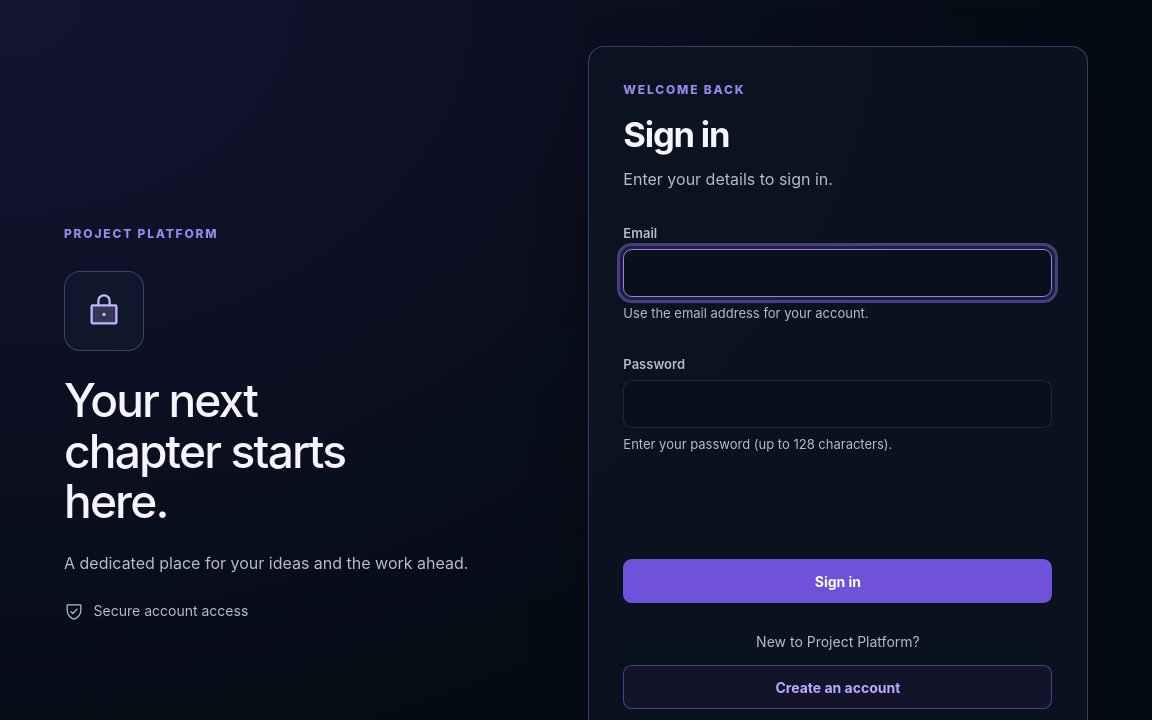
Test: Authentication interface › shows a safe invalid-credentials message and allows a retry
This screenshot has width=1152, height=720.
Type "taylor@example.com" into the field labelled "Email" at x=838, y=273, box 623,249 -> 1052,297
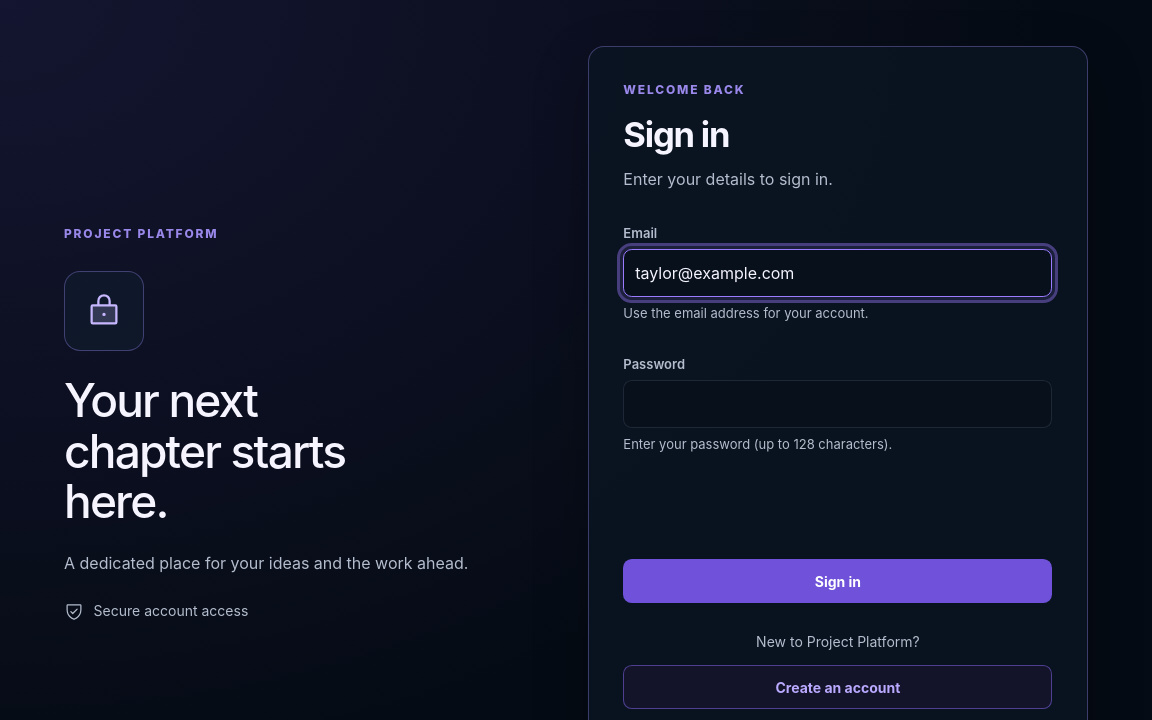
Type "a-valid-password-42" into the password field labelled "Password" at x=838, y=404, box 623,380 -> 1052,428
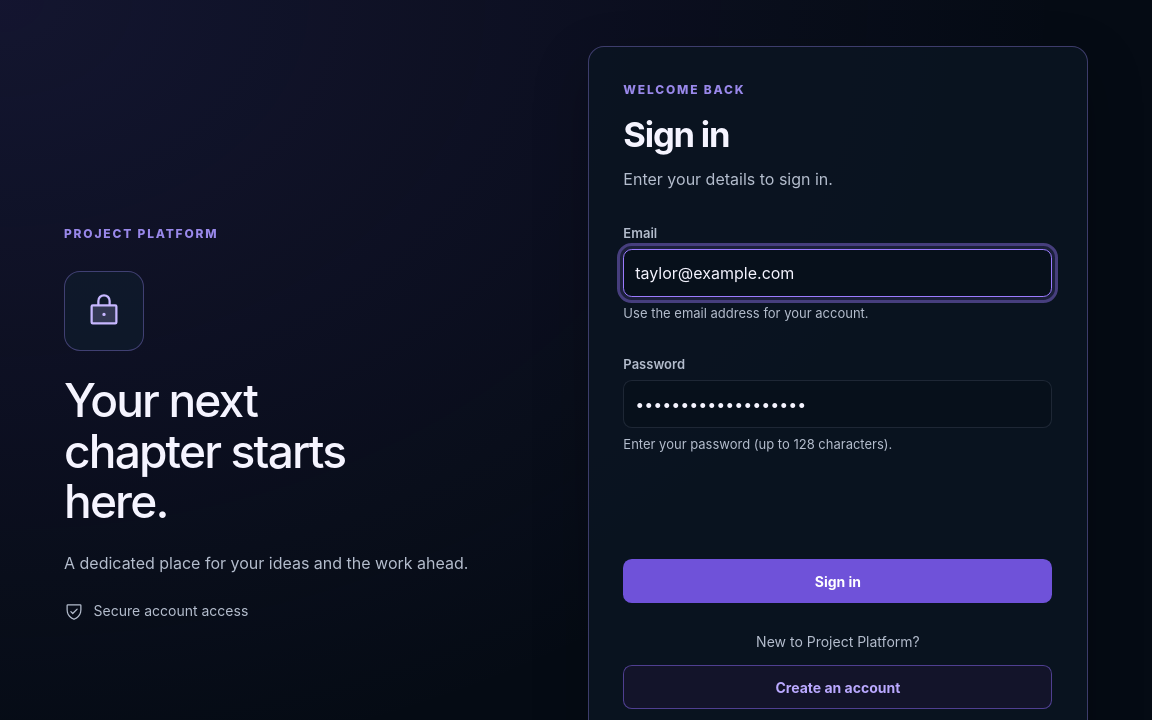
Submit the form named "Login", box 623,225 -> 1052,603
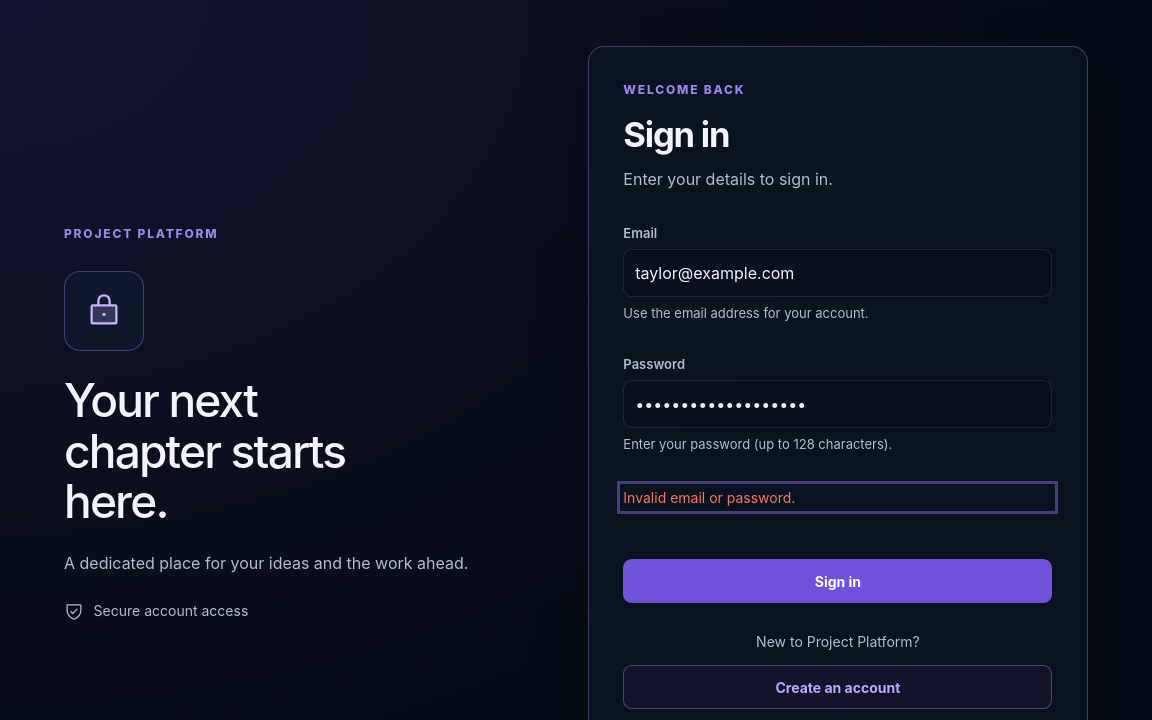
Expected: the button "Sign in" is enabled, 623,559 -> 1052,603
Expected: the message reads "Invalid email or password.", 623,489 -> 795,506
Submit the form named "Login", box 623,225 -> 1052,603
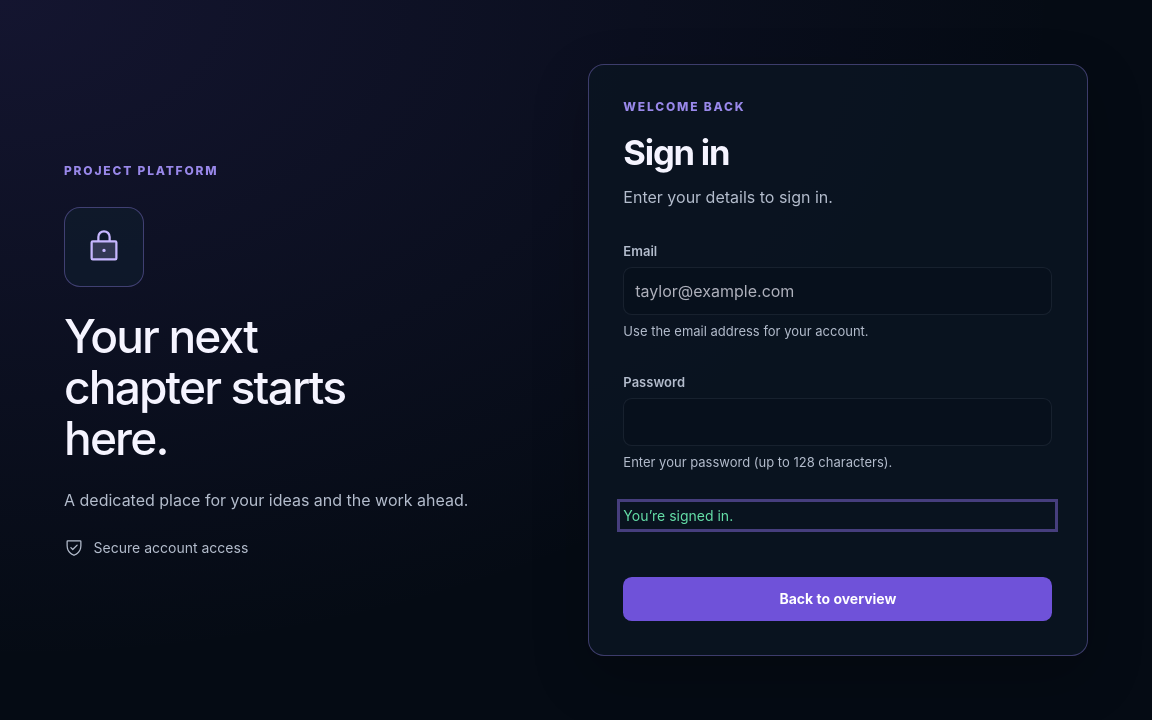
Expected: the message reads "You’re signed in.", 623,507 -> 733,524
